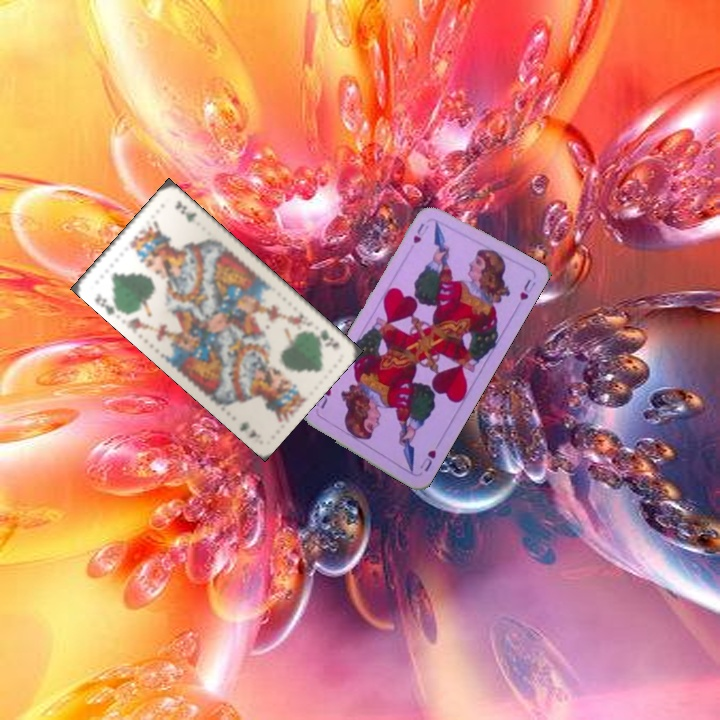GK: (90, 289, 124, 318), (306, 325, 342, 351)
HU: (415, 446, 439, 474), (409, 219, 427, 246)
